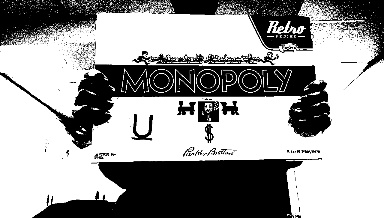U: (129, 111, 155, 137)
